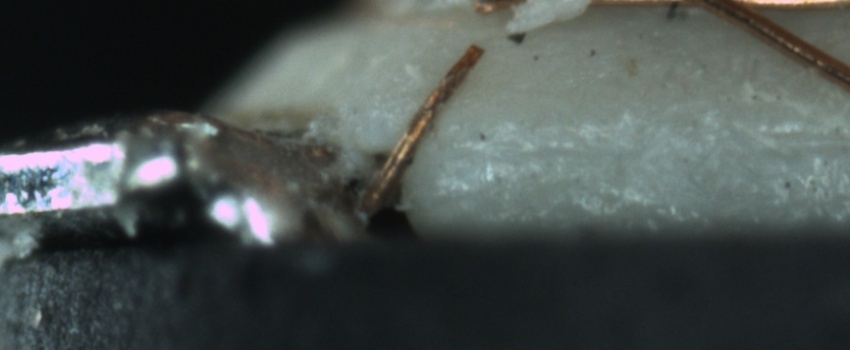DL: (457, 132, 623, 184)
